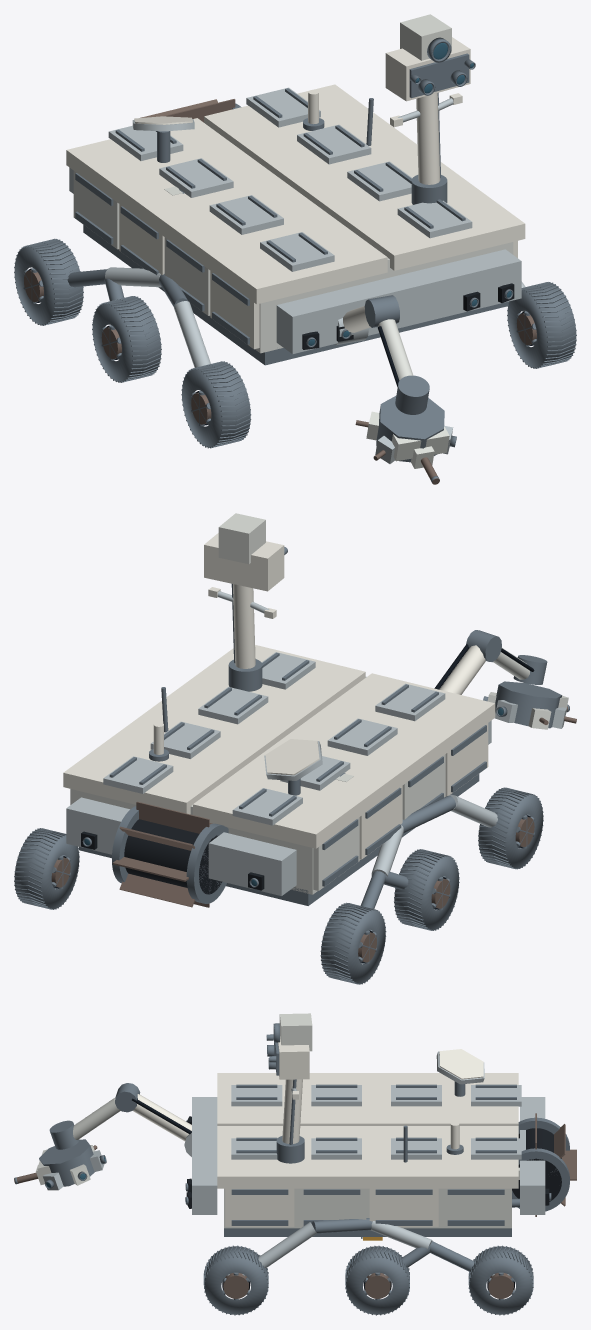
Rendered from perseverance.glb.
3 renders of one model, top to bottom at view 1: azimuth 30°, elevation 25°; view 2: azimuth 150°, elevation 25°; view 3: azimuth 270°, elevation 25°, orthographic. The views are drawn at different scales.
Visible parts, largest first — view 1: perseverance_body.deck.mesh_Warm_white_enamel, perseverance_body.deck.mesh_Satin_aluminum, perseverance_body.front_equipment.mesh_Satin_aluminum, perseverance_body.mesh_Pale_thermal_blanket, perseverance_body.mesh_Machined_steel, perseverance_mobility.rocker_left.bogie.axle_middle.wheel_mi, perseverance_mobility.rocker_left.steer_front.wheel_front.ri, perseverance_mobility.rocker_right.steer_front.wheel_front.r, perseverance_mobility.rocker_left.bogie.steer_rear.wheel_rea, perseverance_body.mesh_Warm_white_enamel, perseverance_body.deck.mesh_Machined_steel, perseverance_turret.mesh_Machined_steel (+11 smaller); view 2: perseverance_body.deck.mesh_Warm_white_enamel, perseverance_body.deck.mesh_Satin_aluminum, perseverance_body.rear_equipment.mesh_Satin_aluminum, perseverance_body.mesh_Pale_thermal_blanket, perseverance_mobility.rocker_left.bogie.steer_rear.wheel_rea, perseverance_mobility.rocker_right.bogie.steer_rear.wheel_re, perseverance_power_comms.mmrtg.mesh_Heat-stained_alloy, perseverance_mobility.rocker_left.bogie.axle_middle.wheel_mi, perseverance_mobility.rocker_left.steer_front.wheel_front.ri, perseverance_body.mesh_Machined_steel, perseverance_power_comms.mmrtg.mesh_Carbon_composite, perseverance_body.mesh_Warm_white_enamel (+13 smaller); view 3: perseverance_body.deck.mesh_Warm_white_enamel, perseverance_body.deck.mesh_Satin_aluminum, perseverance_body.mesh_Pale_thermal_blanket, perseverance_body.mesh_Machined_steel, perseverance_body.mesh_Warm_white_enamel, perseverance_mobility.rocker_right.bogie.steer_rear.wheel_re (×2), perseverance_mobility.rocker_right.bogie.axle_middle.wheel_m (×2), perseverance_mobility.rocker_right.steer_front.wheel_front.r (×2), perseverance_body.front_equipment.mesh_Satin_aluminum, perseverance_body.deck.mesh_Machined_steel, perseverance_body.rear_equipment.mesh_Satin_aluminum, perseverance_mobility.rocker_right.mesh_Satin_aluminum (+14 smaller).
Part boxes in pixels (x1,y1,x2,y2): perseverance_body.deck.mesh_Warm_white_enamel: (66,84,525,304); perseverance_body.deck.mesh_Satin_aluminum: (108,87,472,271); perseverance_body.front_equipment.mesh_Satin_aluminum: (276,249,521,354); perseverance_body.mesh_Pale_thermal_blanket: (73,171,513,353); perseverance_body.mesh_Machined_steel: (75,173,508,365); perseverance_mobility.rocker_left.bogie.axle_middle.wheel_mi: (92,296,161,382); perseverance_mobility.rocker_left.steer_front.wheel_front.ri: (181,361,251,448); perseverance_mobility.rocker_right.steer_front.wheel_front.r: (507,282,576,368); perseverance_mobility.rocker_left.bogie.steer_rear.wheel_rea: (14,238,83,325); perseverance_body.mesh_Warm_white_enamel: (119,204,517,349); perseverance_body.deck.mesh_Machined_steel: (115,88,465,262); perseverance_turret.mesh_Machined_steel: (376,396,444,462); perseverance_body.deck.mesh_Warm_white_enamel: (63,645,495,848); perseverance_body.deck.mesh_Satin_aluminum: (103,652,445,825); perseverance_body.rear_equipment.mesh_Satin_aluminum: (66,797,296,895); perseverance_body.mesh_Pale_thermal_blanket: (70,754,445,894); perseverance_mobility.rocker_left.bogie.steer_rear.wheel_rea: (320,902,386,984); perseverance_mobility.rocker_right.bogie.steer_rear.wheel_re: (14,828,79,909); perseverance_power_comms.mmrtg.mesh_Heat-stained_alloy: (112,801,212,907); perseverance_mobility.rocker_left.bogie.axle_middle.wheel_mi: (394,849,459,930); perseverance_mobility.rocker_left.steer_front.wheel_front.ri: (478,787,543,869); perseverance_body.mesh_Machined_steel: (79,725,486,905); perseverance_power_comms.mmrtg.mesh_Carbon_composite: (124,819,222,894); perseverance_body.mesh_Warm_white_enamel: (359,723,488,859); perseverance_body.deck.mesh_Warm_white_enamel: (217,1073,518,1188); perseverance_body.deck.mesh_Satin_aluminum: (231,1085,521,1159); perseverance_body.mesh_Pale_thermal_blanket: (224,1188,511,1228); perseverance_body.mesh_Machined_steel: (224,1189,511,1236); perseverance_body.mesh_Warm_white_enamel: (225,1188,438,1226); perseverance_mobility.rocker_right.bogie.steer_rear.wheel_re (×2): (468,1245,533,1315); perseverance_mobility.rocker_right.bogie.axle_middle.wheel_m (×2): (345,1245,409,1315); perseverance_mobility.rocker_right.steer_front.wheel_front.r (×2): (203,1245,268,1315); perseverance_body.front_equipment.mesh_Satin_aluminum: (192,1097,217,1214); perseverance_body.deck.mesh_Machined_steel: (236,1084,516,1153); perseverance_body.rear_equipment.mesh_Satin_aluminum: (520,1097,545,1214); perseverance_mobility.rocker_right.mesh_Satin_aluminum: (258,1221,432,1267).
Size of the model in its own units: 2.72 by 2.37 by 4.65.
